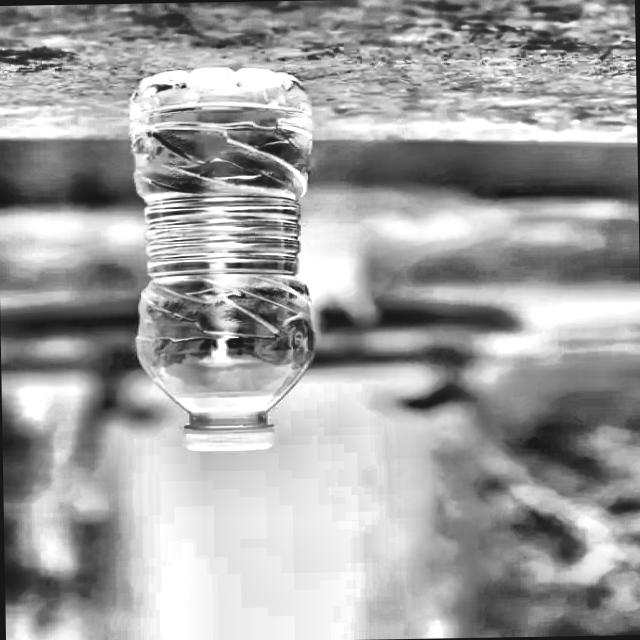waterbottle: (112, 53, 330, 464)
